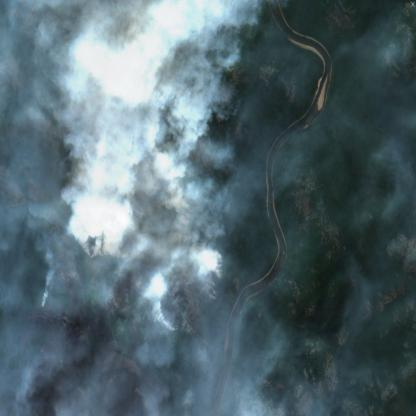fire: (70, 105, 226, 290)
